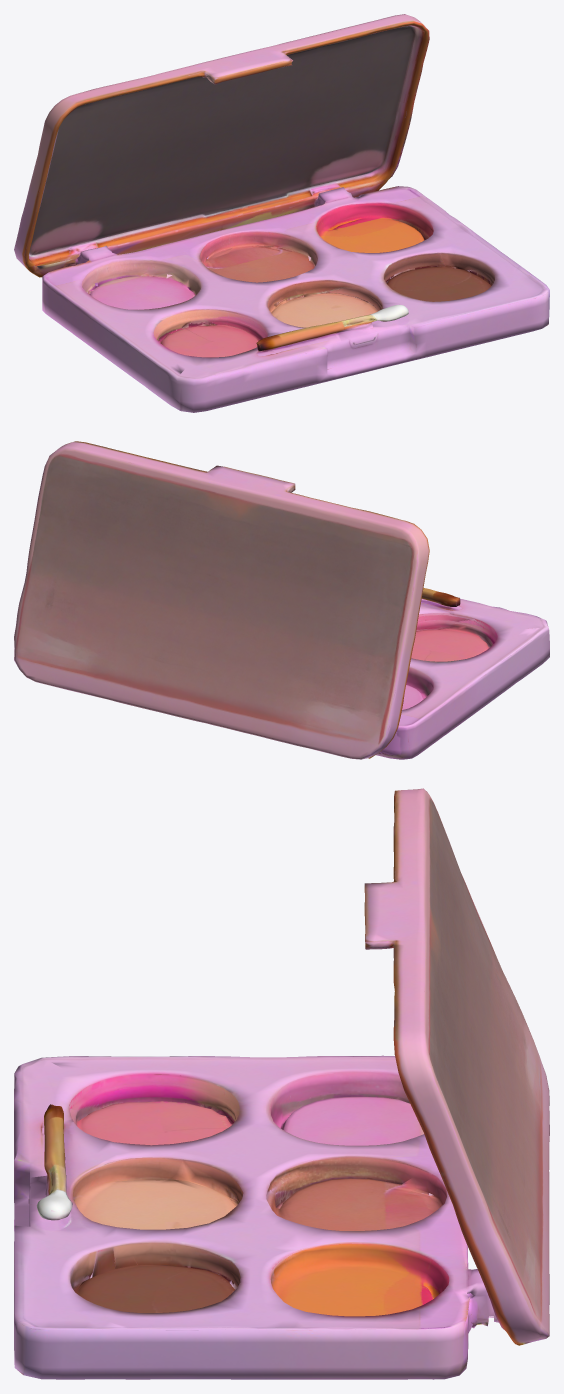
Rendered from makeup_palette_girl_0706181821_texture.glb.
The picture shows the model from 3 angles, top to bottom: view 1: azimuth 30°, elevation 25°; view 2: azimuth 150°, elevation 25°; view 3: azimuth 270°, elevation 25°; orthographic projection. The views are drawn at different scales.
Bounding box in the file's own units: 2 × 1.11 × 1.63.
1 material, 1 textured.
